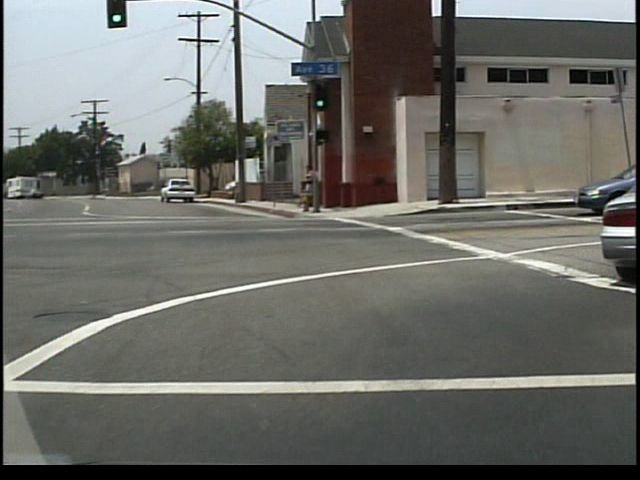person: (306, 163, 324, 213)
